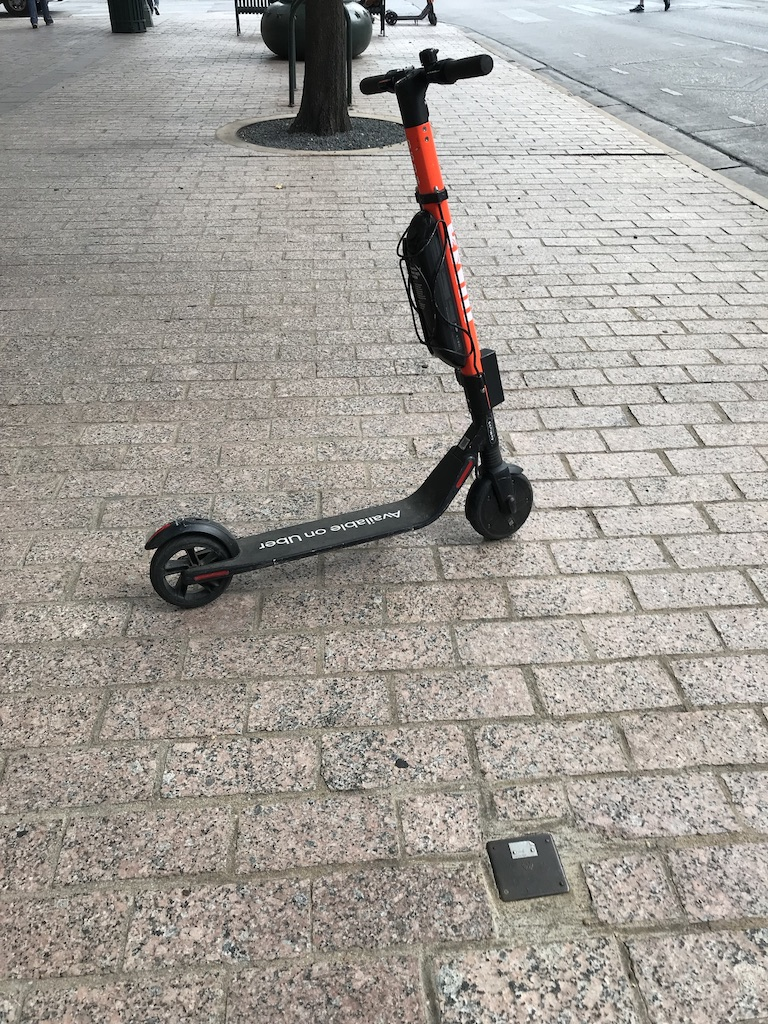scooter: (146, 47, 536, 613), (385, 1, 439, 30)
